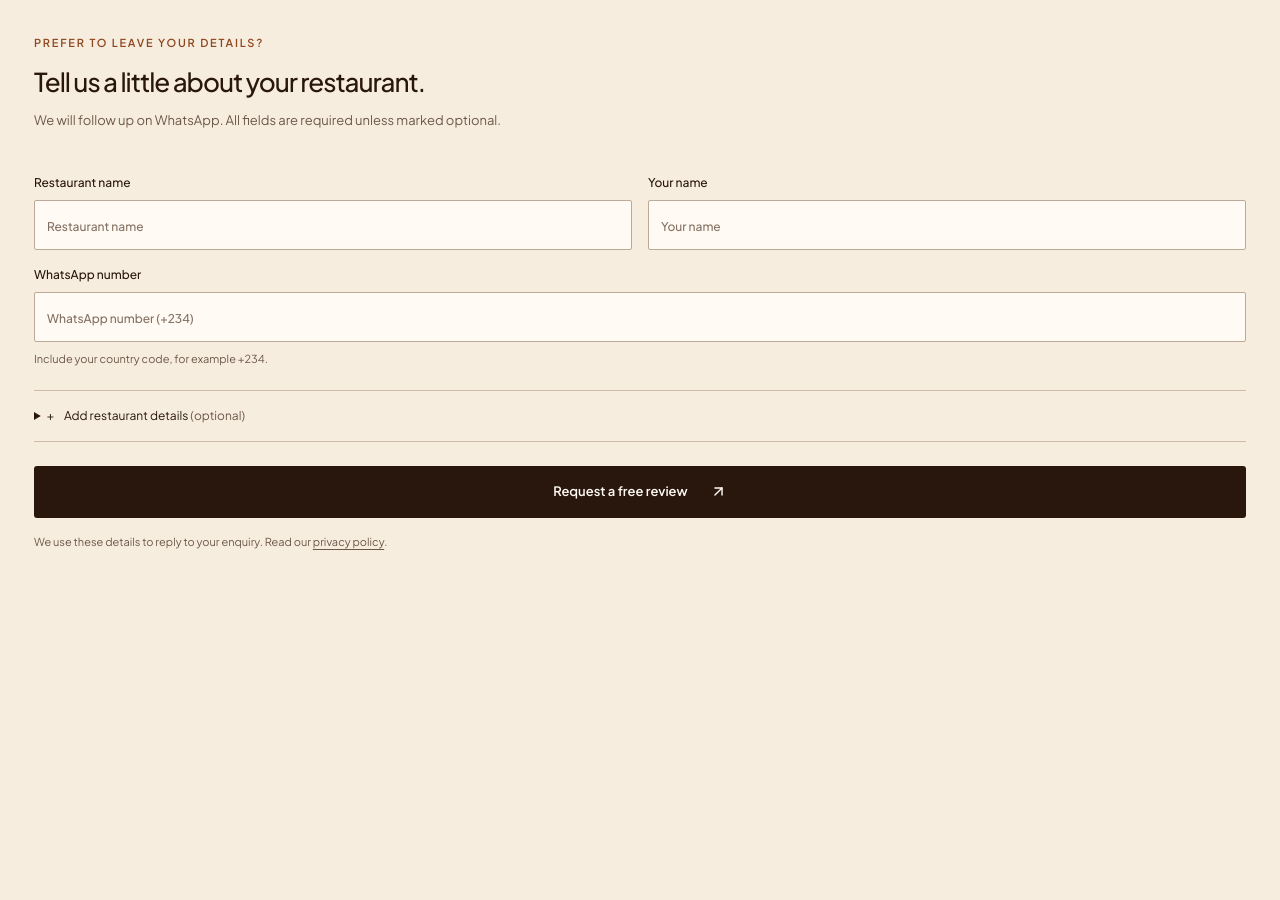
Scenario: restaurant enquiry › preserves optional fields in the webhook contract
Type "Savour Lagos" into the field labelled "Restaurant name" at (333, 224), box [34,200,632,250]
Type "Ada" into the field labelled "Your name" at (947, 224), box [648,200,1246,250]
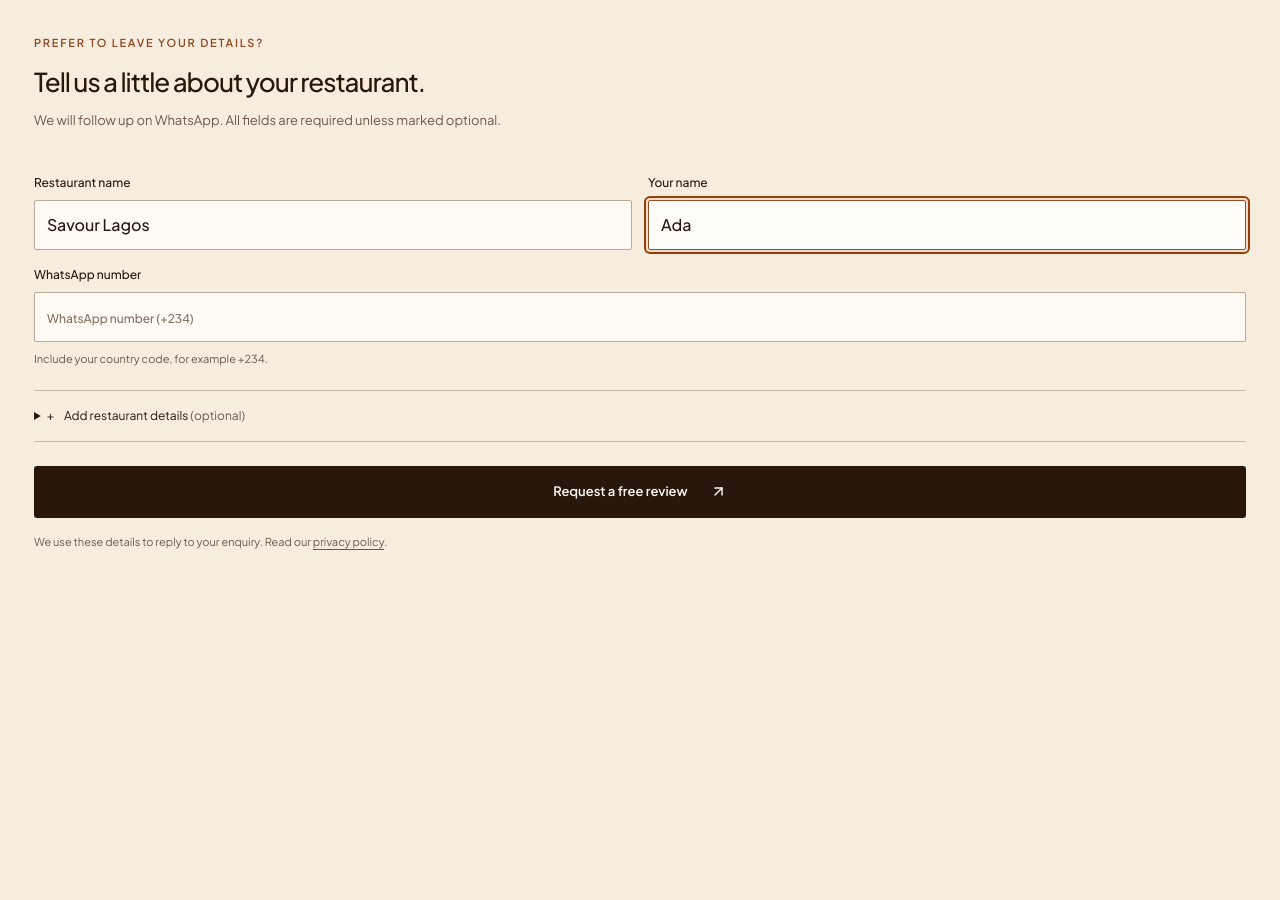
Type "+2348012345678" into the field labelled "WhatsApp number" at (640, 316), box [34,292,1246,342]
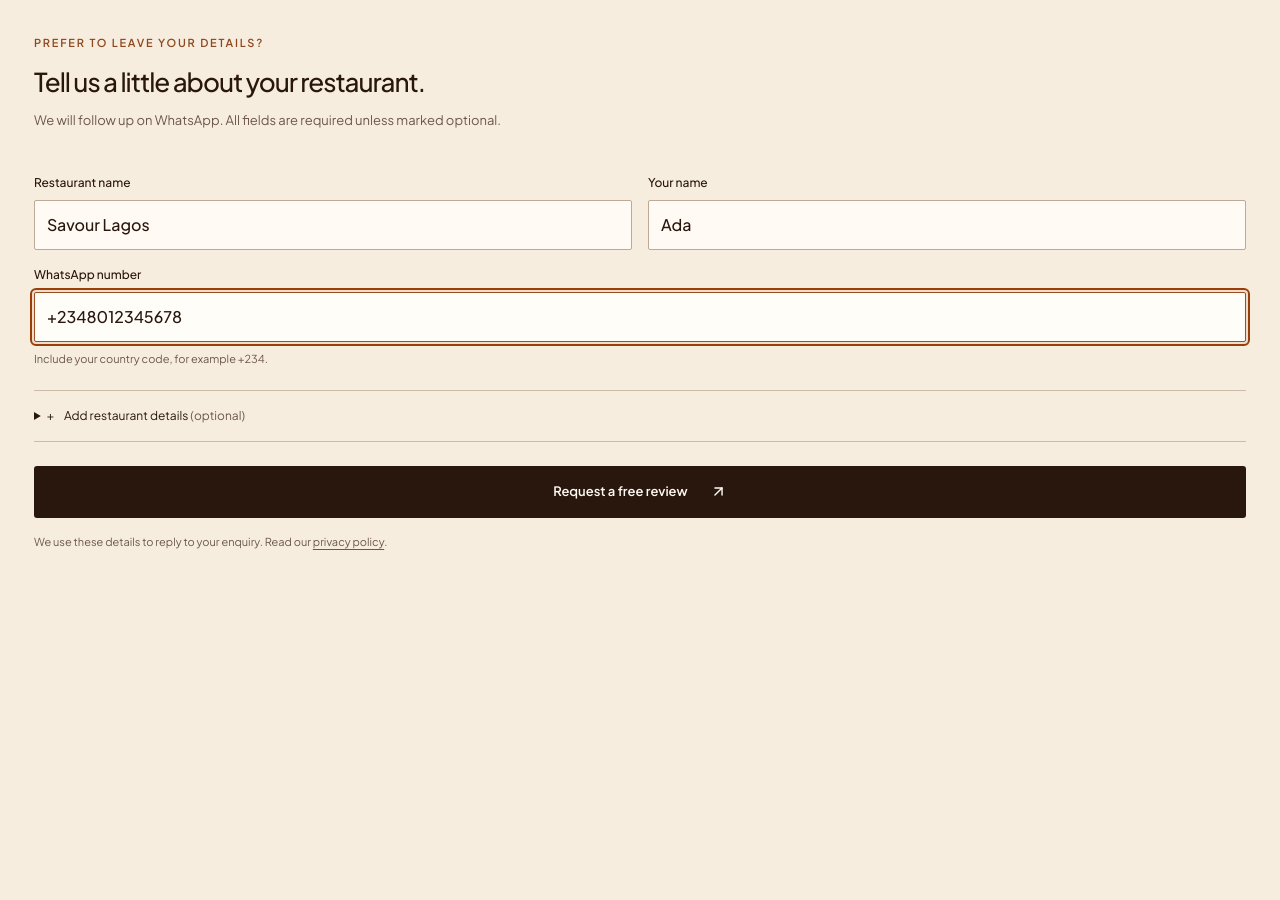
Click the heading "Add restaurant details (optional)" at (154, 415), box [64,408,245,423]
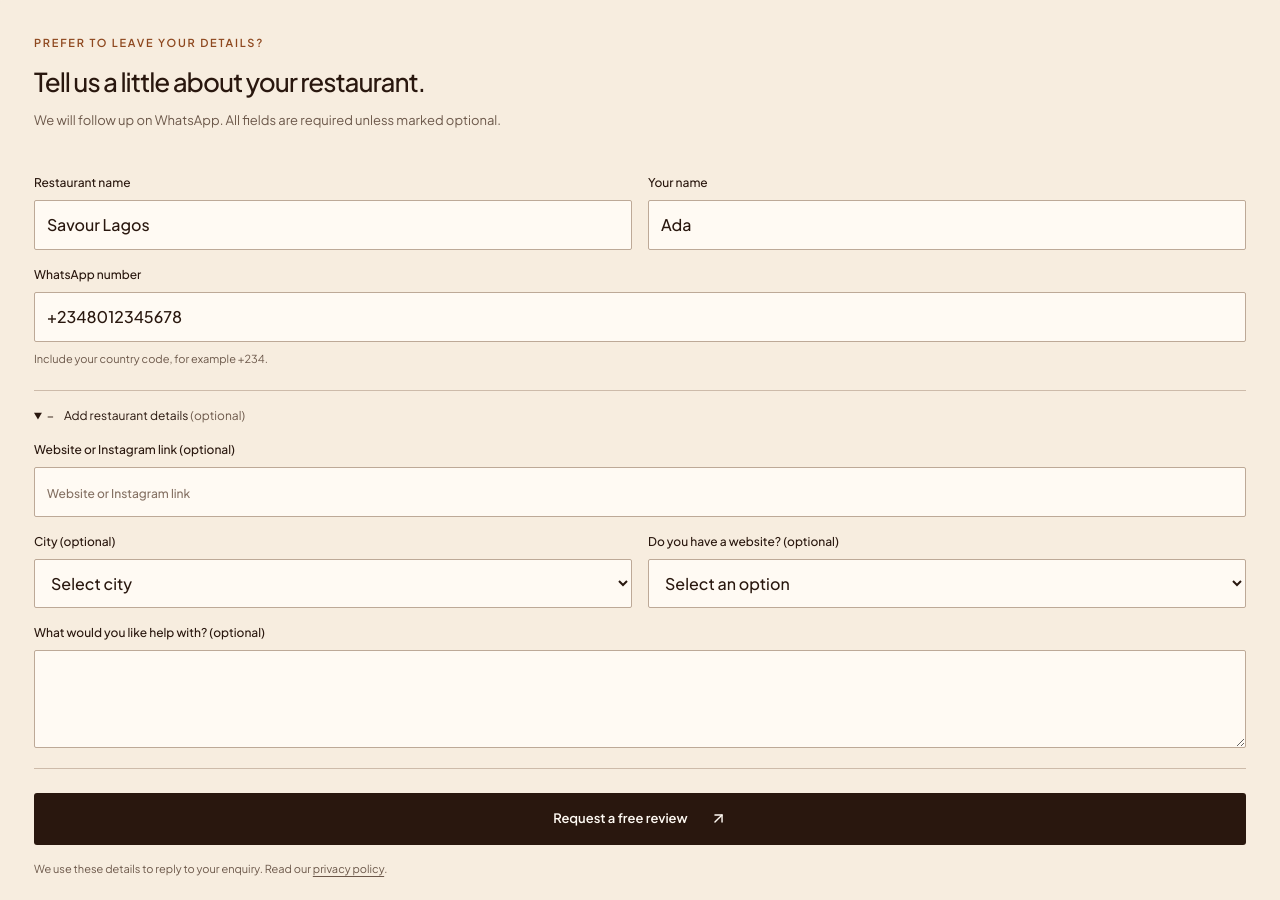
Type "https://example.com" into the field labelled "Website or Instagram link (optional)" at (640, 492), box [34,467,1246,517]
Select "Lagos" in the dropdown labelled "City (optional)" at (333, 583), box [34,559,632,608]
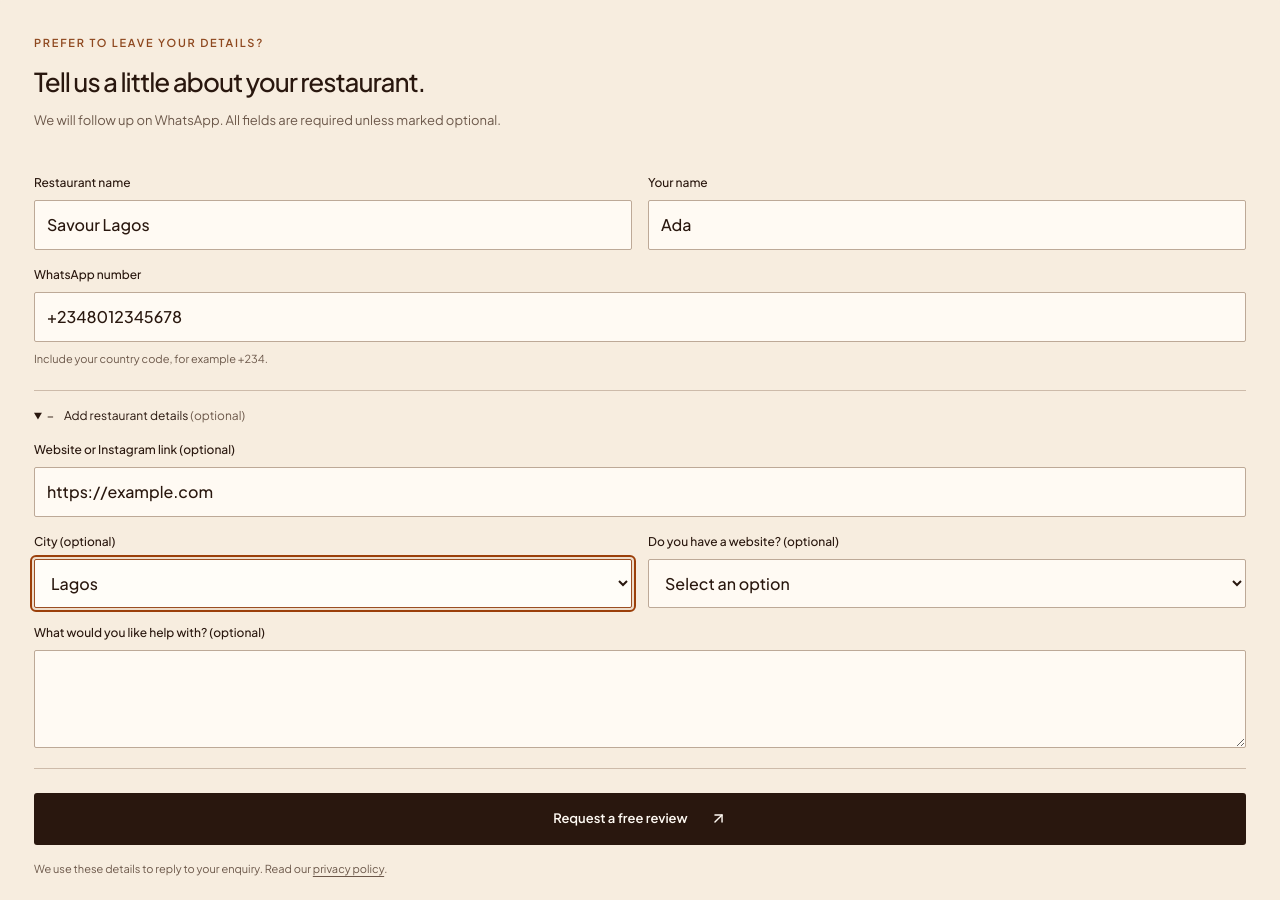
Select "None" in the dropdown labelled "Do you have a website? (optional)" at (947, 583), box [648,559,1246,608]
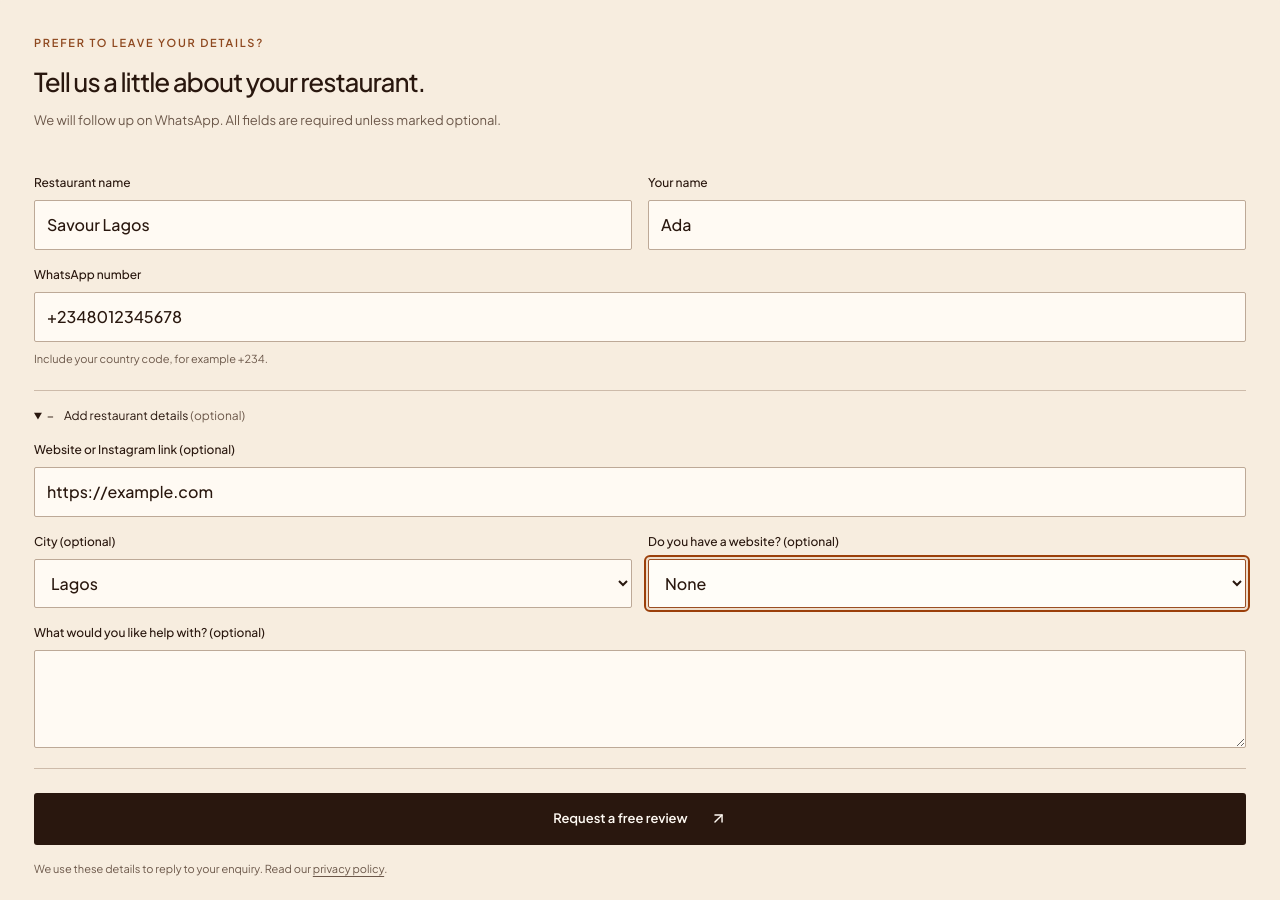
Click the button "Request a free review" at (640, 819), box [34,793,1246,845]
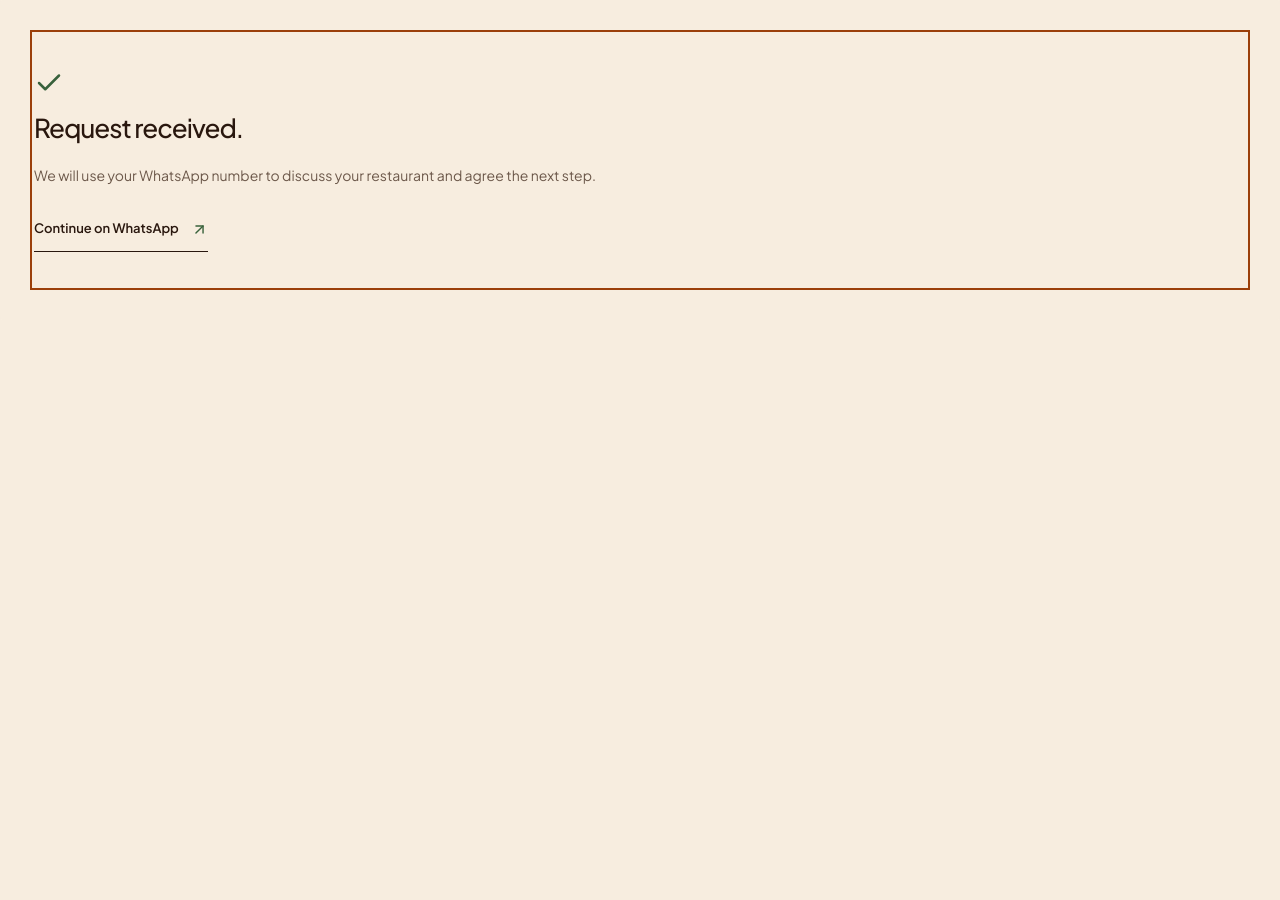
Now the heading "Request received." is shown, box [34,111,243,144]
